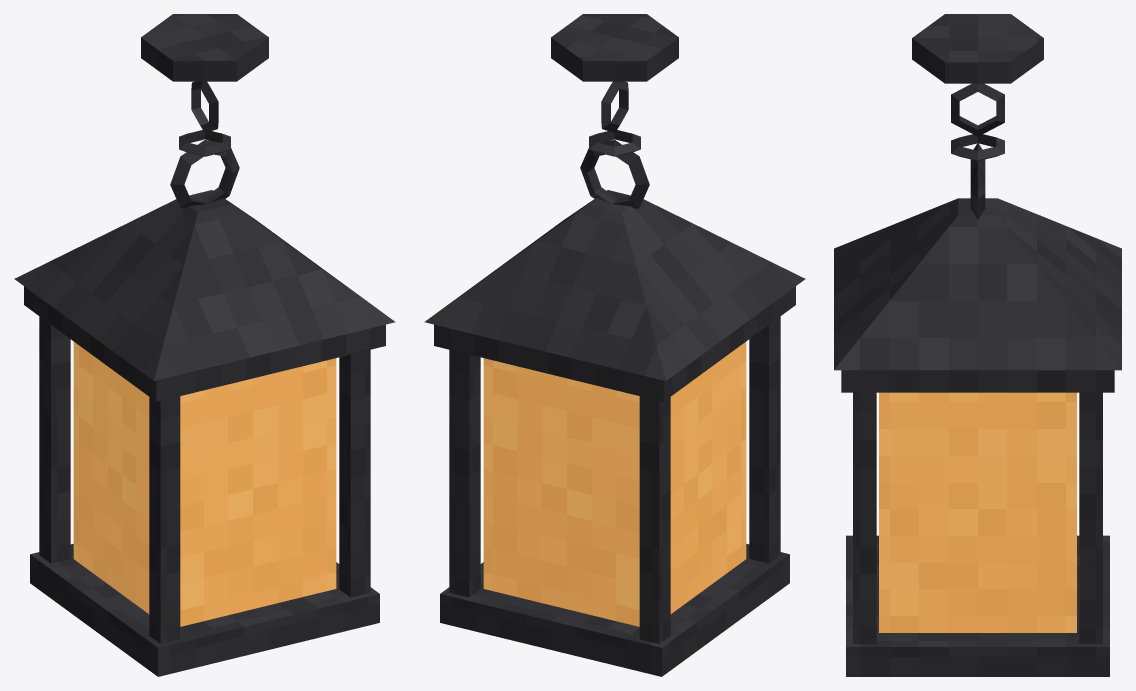
The model's file is lantern_hang.glb.
3 renders of one model, left to right at view 1: azimuth 30°, elevation 25°; view 2: azimuth 150°, elevation 25°; view 3: azimuth 270°, elevation 25°, orthographic. The views are drawn at different scales.
Parts seen in each view (by area): view 1: body; view 2: body; view 3: body.
Part boxes in pixels (x1=…): body: x1=14, y1=14, x2=395, y2=676; body: x1=424, y1=14, x2=805, y2=676; body: x1=834, y1=14, x2=1121, y2=676.
Bounding box in the file's own units: 0.3055 × 0.6825 × 0.3055.
3 materials, 2 textured.
